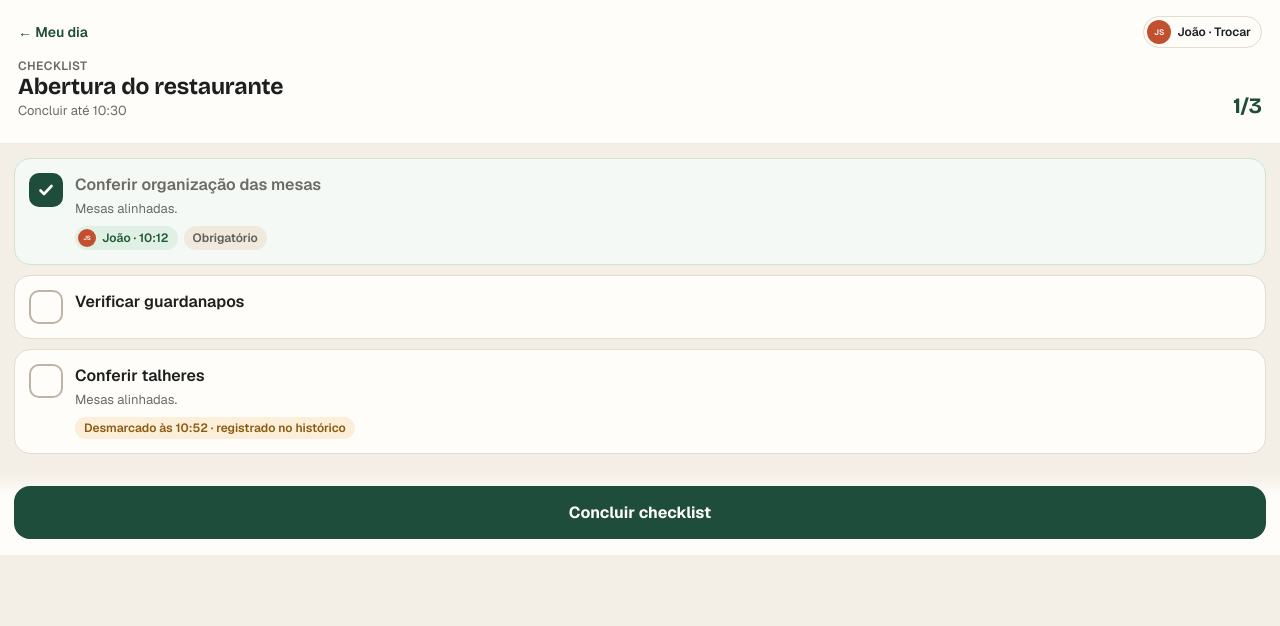
Test: US06 — concluir checklist (web) › marcar um item limpa o banner de erro (borda)
The image size is (1280, 626).
Click the button "Concluir checklist" at (640, 513), box [14,486,1266,539]
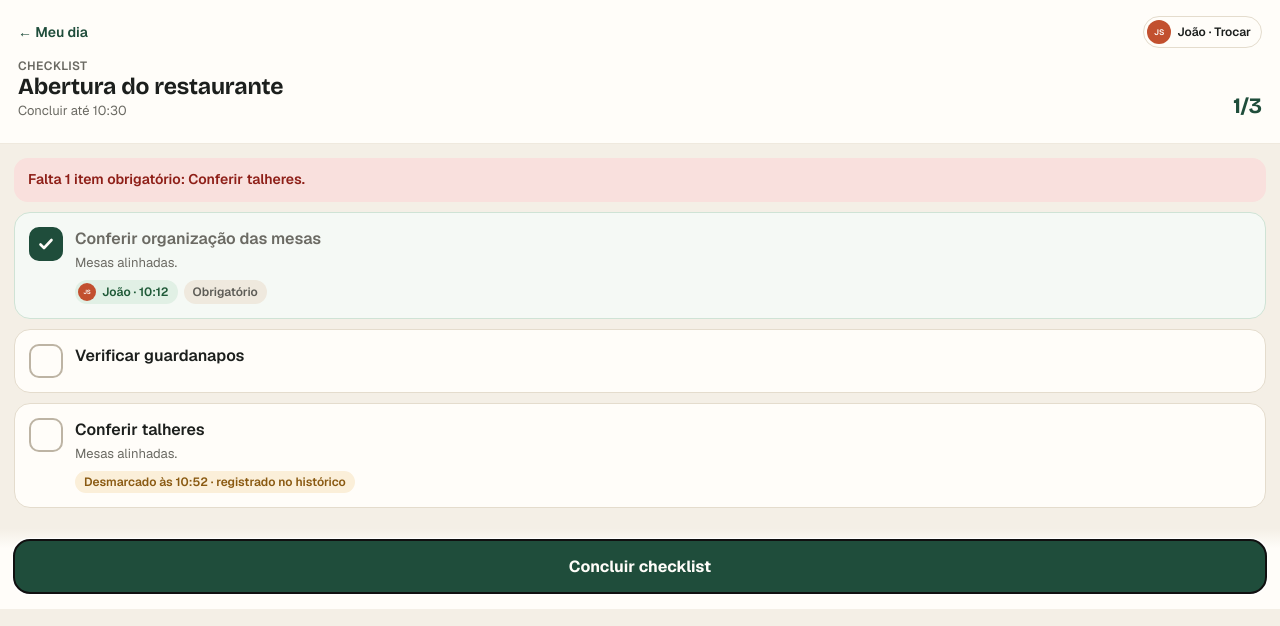
Expected: the text "Falta 1 item obrigatório: Conferir talheres." is shown, [14,158,1266,202]
Click the button named "Marcar Verificar guardanapos" at (46, 361), box [29,344,63,378]
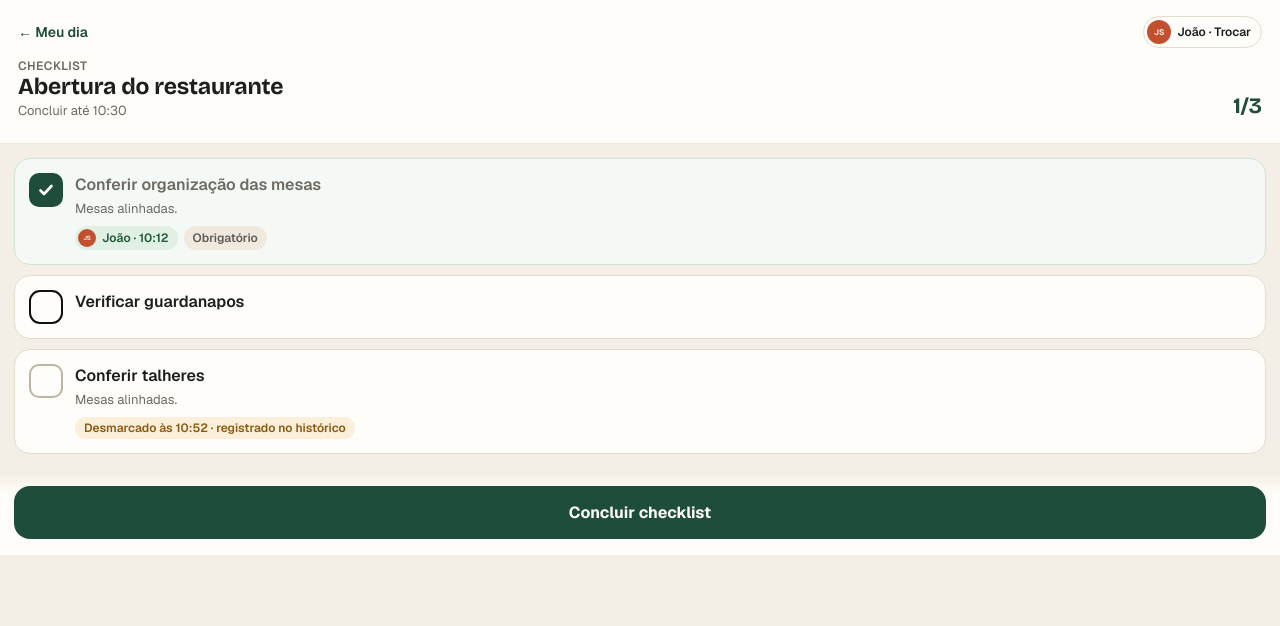
Expected: the text "Falta 1 item obrigatório: Conferir talheres." is gone
